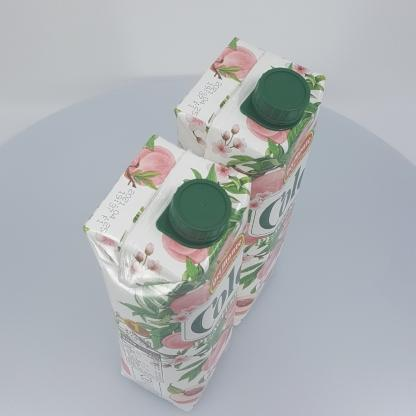-------------100_: (83, 134, 251, 411), (174, 38, 326, 326)
